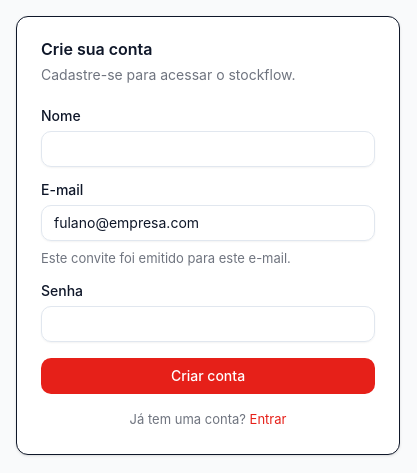
Scenario: CadastroPage › mostra a mensagem de sucesso e esconde o formulário quando o cadastro é aceito
This screenshot has width=417, height=473.
In the field labelled "Nome": (208, 148) top-left (41, 130), bottom-right (375, 166), type "Fulano de Tal"
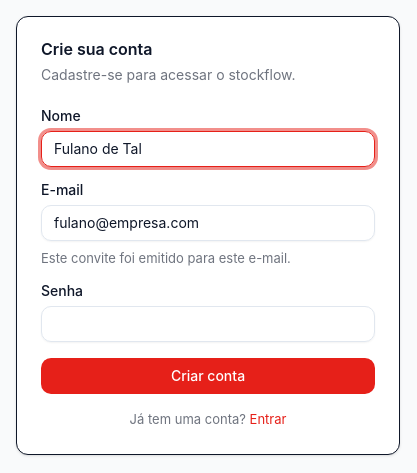
In the password field labelled "Senha": (208, 324) top-left (41, 306), bottom-right (375, 342), type "senha-123456"
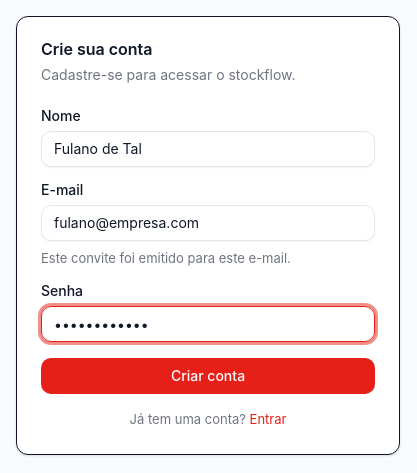
Click the button "Criar conta": (208, 376) top-left (41, 358), bottom-right (375, 394)
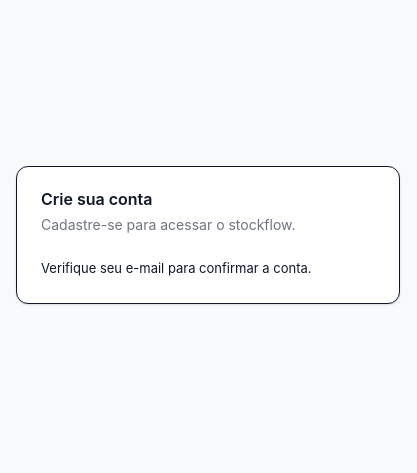
Expected: the text "Verifique seu e-mail para confirmar a conta." is shown, top-left (41, 260), bottom-right (312, 276)
Expected: the label labelled "Nome" is gone
